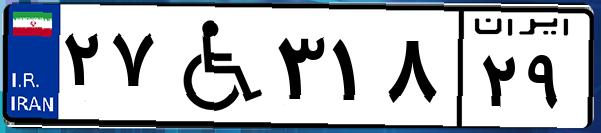1: (330, 28, 385, 110)
2: (57, 26, 110, 100), (475, 38, 525, 113)
3: (270, 28, 330, 110)
7: (110, 28, 158, 98)
8: (385, 28, 445, 110)
9: (525, 38, 570, 115)
ژ (معلولین و جانبازان): (158, 12, 270, 120)
